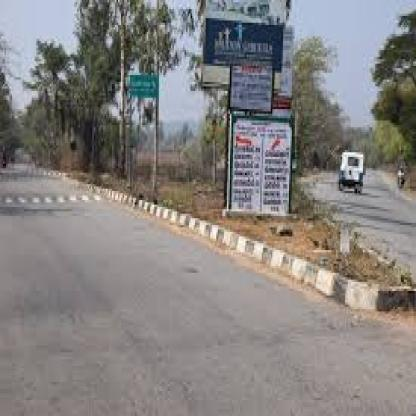car: (336, 143, 370, 208), (393, 162, 410, 192)
